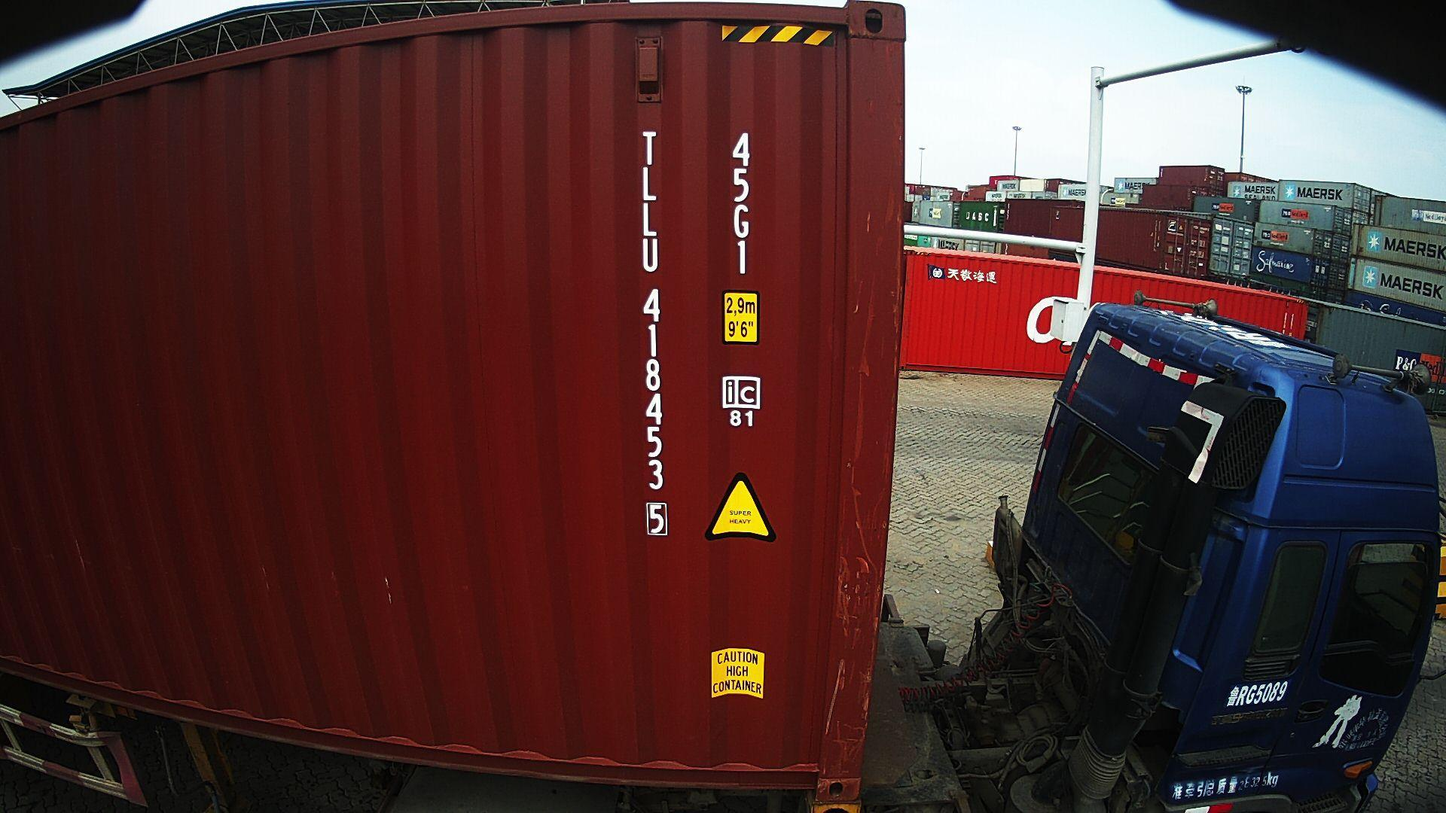container-numbers: (634, 125, 671, 546), (727, 129, 757, 280)
